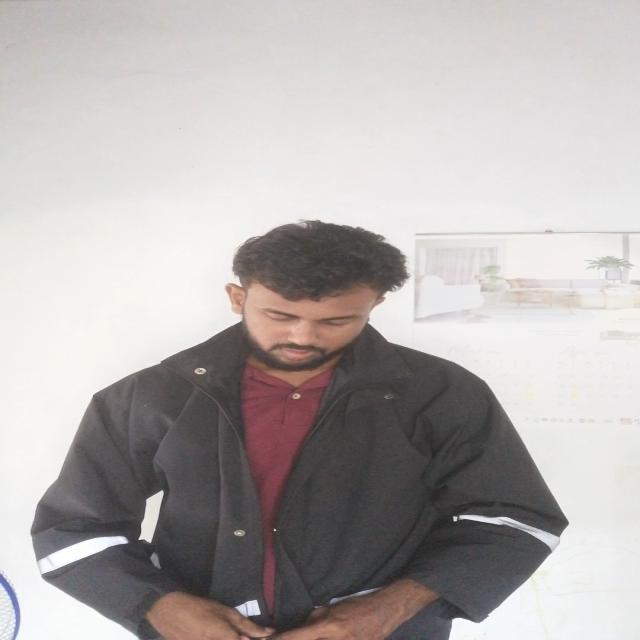Jacket_Wearer: (41, 292, 578, 640)
